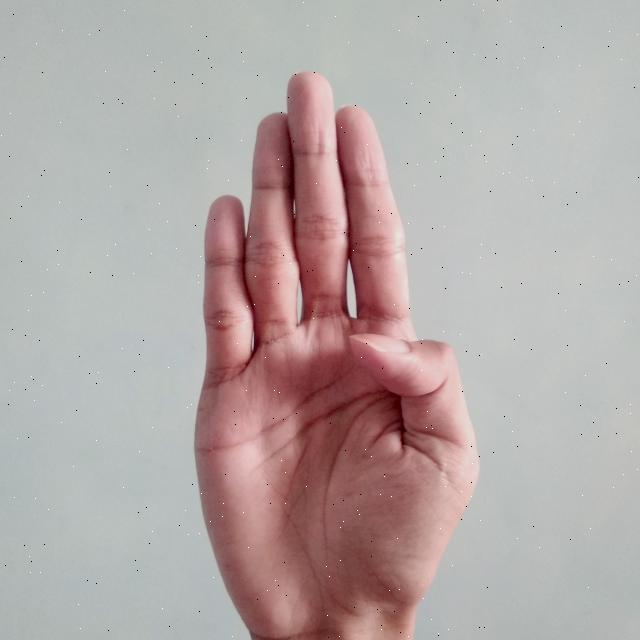B: (190, 65, 485, 640)
